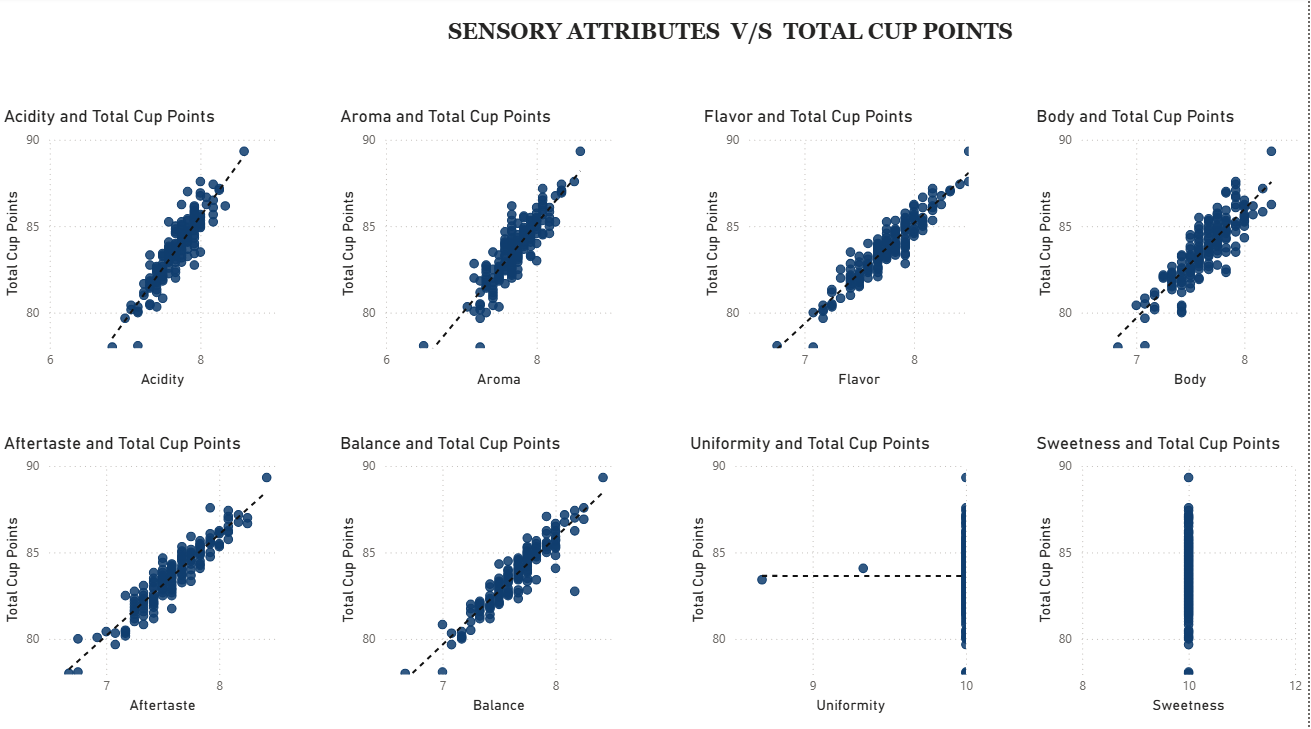

Layout of this report page (visuals, bound fields, positions):
{"tool":"powerbi","page":{"name":"Sensory Attributes","canvas":[1280,720],"ordinal":1},"visuals":[{"type":"scatterChart","fields":{"X":["df_arabica_clean.Acidity"],"Y":["df_arabica_clean.Total Cup Points"]},"box":[0,107,279.9,279.9],"z":0},{"type":"textbox","box":[417.2,0,596.9,79.6],"z":1000},{"type":"scatterChart","fields":{"X":["df_arabica_clean.Aroma"],"Y":["df_arabica_clean.Total Cup Points"]},"box":[329.3,107,279.9,279.9],"z":2000},{"type":"scatterChart","fields":{"X":["df_arabica_clean.Flavor"],"Y":["df_arabica_clean.Total Cup Points"]},"box":[684.7,107,273.1,279.9],"z":3000},{"type":"scatterChart","fields":{"X":["df_arabica_clean.Body"],"Y":["df_arabica_clean.Total Cup Points"]},"box":[1010,107,270.3,279.9],"z":4000},{"type":"scatterChart","fields":{"X":["df_arabica_clean.Aftertaste"],"Y":["df_arabica_clean.Total Cup Points"]},"box":[0,426.8,279.9,279.9],"z":5000},{"type":"scatterChart","fields":{"Y":["df_arabica_clean.Total Cup Points"],"X":["df_arabica_clean.Balance"]},"box":[329,427,280,280],"z":6000},{"type":"scatterChart","fields":{"X":["z color.Uniformity"],"Y":["z color.Total Cup Points"]},"box":[671,426.8,286.8,279.9],"z":7000},{"type":"scatterChart","fields":{"X":["z color.Sweetness"],"Y":["z color.Total Cup Points"]},"box":[1010,427,270,280],"z":8000}]}

Visuals, with their boxes in screenshot pixels (x1, y1, x2, y2), scaled from the page's 1280x720 canvas onto the 1311x729 screenshot:
scatterChart - df_arabica_clean.Acidity x df_arabica_clean.Total Cup Points: [x1=0, y1=108, x2=287, y2=392]
textbox: [x1=427, y1=0, x2=1039, y2=81]
scatterChart - df_arabica_clean.Aroma x df_arabica_clean.Total Cup Points: [x1=337, y1=108, x2=624, y2=392]
scatterChart - df_arabica_clean.Flavor x df_arabica_clean.Total Cup Points: [x1=701, y1=108, x2=981, y2=392]
scatterChart - df_arabica_clean.Body x df_arabica_clean.Total Cup Points: [x1=1034, y1=108, x2=1310, y2=392]
scatterChart - df_arabica_clean.Aftertaste x df_arabica_clean.Total Cup Points: [x1=0, y1=432, x2=287, y2=716]
scatterChart - df_arabica_clean.Total Cup Points x df_arabica_clean.Balance: [x1=337, y1=432, x2=624, y2=716]
scatterChart - z color.Uniformity x z color.Total Cup Points: [x1=687, y1=432, x2=981, y2=716]
scatterChart - z color.Sweetness x z color.Total Cup Points: [x1=1034, y1=432, x2=1310, y2=716]
